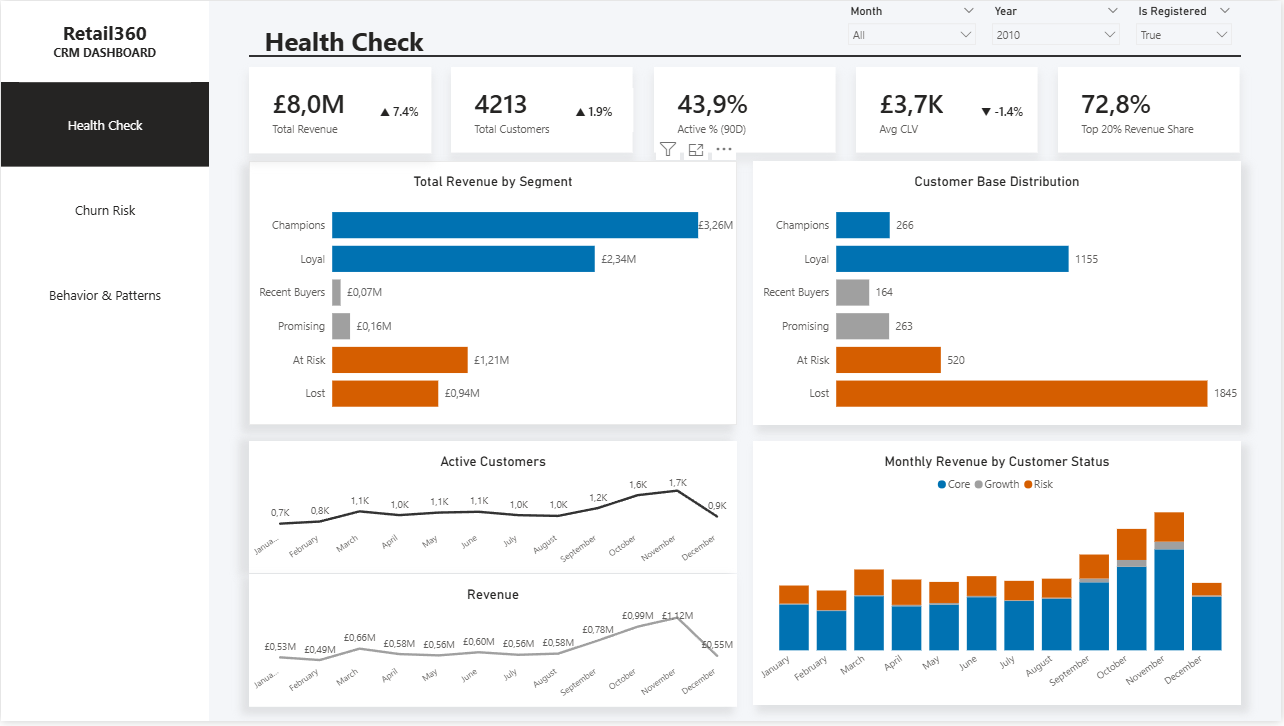

Layout of this report page (visuals, bound fields, positions):
{"tool":"powerbi","page":{"name":"Health Check","canvas":[1600,900],"ordinal":0},"visuals":[{"type":"shape","box":[0,0,260,900],"z":0},{"type":"pageNavigator","box":[0,101.1,260,320],"z":1000},{"type":"textbox","box":[22.2,17.8,214.4,84.4],"z":2000},{"type":"shape","box":[310,14.1,1240,110],"z":3000},{"type":"textbox","box":[278.6,22.6,300,60],"z":4000},{"type":"cardVisual","fields":{"Data":["_Mensures.Total Customers"]},"box":[562.9,82.9,227.1,107.1],"z":5000},{"type":"cardVisual","fields":{"Data":["_Mensures.Active % (90D)"]},"box":[815.7,82.9,227.1,107.1],"z":6000},{"type":"cardVisual","fields":{"Data":["_Mensures.Avg CLV"]},"box":[1068.6,82.9,227.1,107.1],"z":7000},{"type":"cardVisual","fields":{"Data":["_Mensures.Top 20% Revenue Share"]},"box":[1321.4,82.9,227.1,107.1],"z":8000},{"type":"slicer","fields":{"Values":["Calendar.Year"]},"box":[1228.6,0,180,74.3],"z":9000},{"type":"slicer","fields":{"Values":["Calendar.Month"]},"box":[1048.6,0,180,74.3],"z":10000},{"type":"barChart","title":"Total Revenue by Segment","fields":{"Category":["Customer Segments.RFM Segment"],"Y":["_Mensures.Total Revenue"]},"box":[310,200,610,330],"z":11000},{"type":"barChart","title":"Customer Base Distribution","fields":{"Category":["Customer Segments.RFM Segment"],"Y":["_Mensures.Total Customers"]},"box":[940,200,610,330],"z":12000},{"type":"lineChart","title":"Active Customers","fields":{"Y":["_Mensures.Total Customers"],"Category":["Calendar.Month Name"]},"box":[310,550,610,165],"z":13000},{"type":"columnChart","title":"Monthly Revenue by Customer Status","fields":{"Y":["_Mensures.Total Revenue"],"Series":["Customer Segments.Business Group"],"Category":["Calendar.Month-Year.Variation.Date Hierarchy.Month"]},"box":[940,550,610,330],"z":14000},{"type":"slicer","fields":{"Values":["Customers.Is Registered"]},"box":[1408.6,0,140,74.3],"z":15000},{"type":"lineChart","title":"Revenue","fields":{"Y":["_Mensures.Total Revenue"],"Category":["Calendar.Month Name"]},"box":[310,715.7,610,165.7],"z":16000},{"type":"cardVisual","fields":{"Data":["_Mensures.Total Revenue"]},"box":[310,82.5,227.5,107.5],"z":17000},{"type":"cardVisual","fields":{"Data":["_Mensures.Revenue MoM %"]},"box":[458.6,108.6,78.6,55.7],"z":18000},{"type":"cardVisual","fields":{"Data":["_Mensures.CLV MoM %"]},"box":[1205.7,108.6,90,55.7],"z":19000},{"type":"cardVisual","fields":{"Data":["_Mensures.Customers MoM %"]},"box":[692.3,108.5,97.7,55.4],"z":20000}]}

Visuals, with their boxes on the page's 1600x900 design canvas (x1, y1, x2, y2). These are canvas units, not pixel positions in the 1284x726 screenshot, which may show the page scaled, cropped or inside an application window:
shape: 0,0,260,900
pageNavigator: 0,101,260,421
textbox: 22,18,237,102
shape: 310,14,1550,124
textbox: 279,23,579,83
cardVisual - _Mensures.Total Customers: 563,83,790,190
cardVisual - _Mensures.Active % (90D): 816,83,1043,190
cardVisual - _Mensures.Avg CLV: 1069,83,1296,190
cardVisual - _Mensures.Top 20% Revenue Share: 1321,83,1548,190
slicer - Calendar.Year: 1229,0,1409,74
slicer - Calendar.Month: 1049,0,1229,74
"Total Revenue by Segment" barChart: 310,200,920,530
"Customer Base Distribution" barChart: 940,200,1550,530
"Active Customers" lineChart: 310,550,920,715
"Monthly Revenue by Customer Status" columnChart: 940,550,1550,880
slicer - Customers.Is Registered: 1409,0,1549,74
"Revenue" lineChart: 310,716,920,881
cardVisual - _Mensures.Total Revenue: 310,82,538,190
cardVisual - _Mensures.Revenue MoM %: 459,109,537,164
cardVisual - _Mensures.CLV MoM %: 1206,109,1296,164
cardVisual - _Mensures.Customers MoM %: 692,108,790,164
